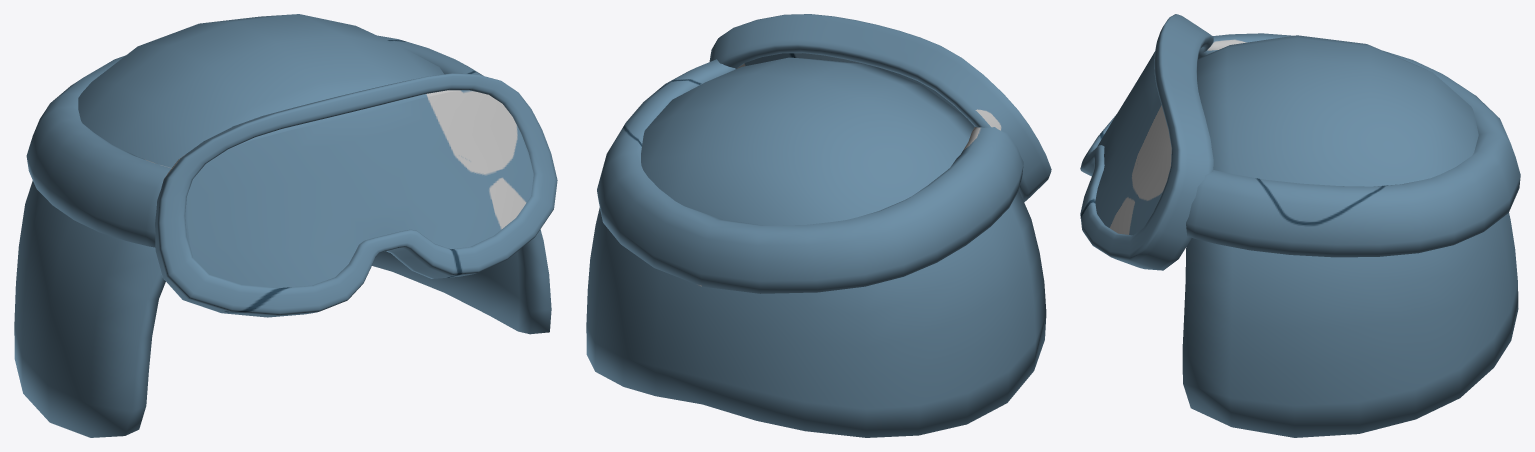
The model's file is RicoHelmet.fbx.
3 renders of one model, left to right at view 1: azimuth 30°, elevation 25°; view 2: azimuth 150°, elevation 25°; view 3: azimuth 270°, elevation 25°, orthographic. The views are drawn at different scales.
Visible parts, largest first — view 1: Helmet; view 2: Helmet; view 3: Helmet.
Part boxes in pixels (x1,y1,x2,y2): Helmet: (14, 14, 557, 437); Helmet: (586, 14, 1051, 437); Helmet: (1080, 14, 1520, 437).
Bounding box in the file's own units: 122 × 83.39 × 116.
